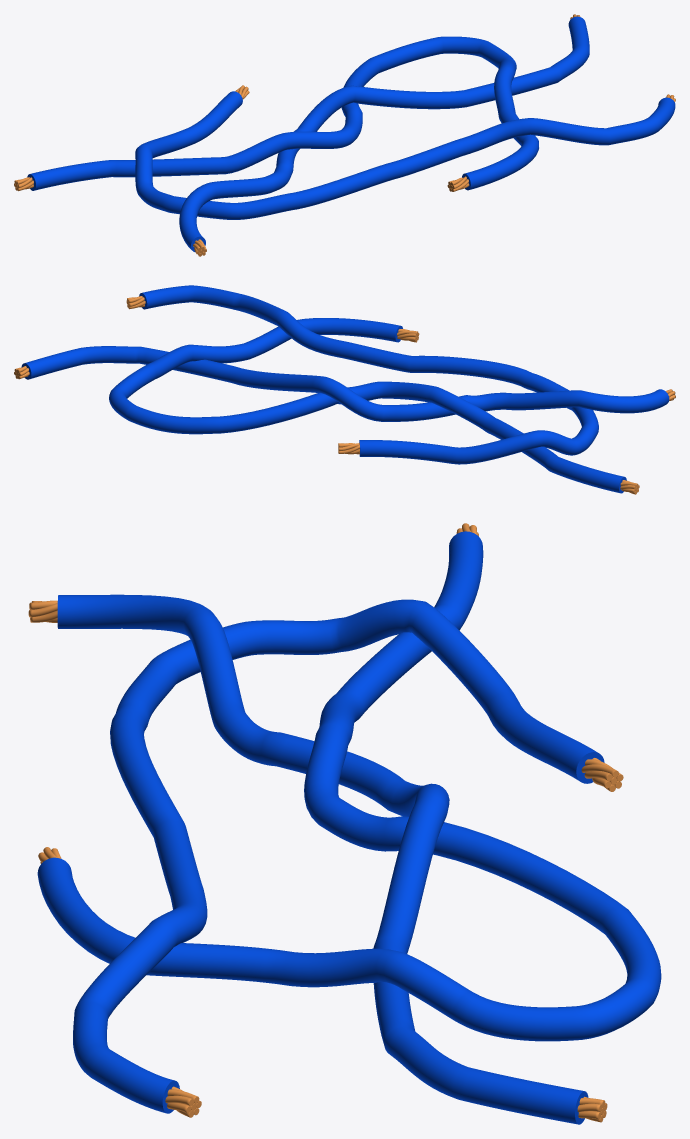
The model's file is wires.fbx.
3 renders of one model, top to bottom at view 1: azimuth 30°, elevation 25°; view 2: azimuth 150°, elevation 25°; view 3: azimuth 270°, elevation 25°, orthographic. The views are drawn at different scales.
Visible parts, largest first — view 1: Wire, WireCylinder.005; view 2: Wire, WireCylinder.005; view 3: Wire, WireCylinder.005.
Boxes of the visible parts, x1,y1,x2,y2 form: Wire: (27,16,675,251); WireCylinder.005: (14,14,675,256); Wire: (21,285,669,493); WireCylinder.005: (14,296,675,494); Wire: (37,531,661,1124); WireCylinder.005: (28,523,623,1122).
Bounding box in the file's own units: 218 × 14.35 × 101.
